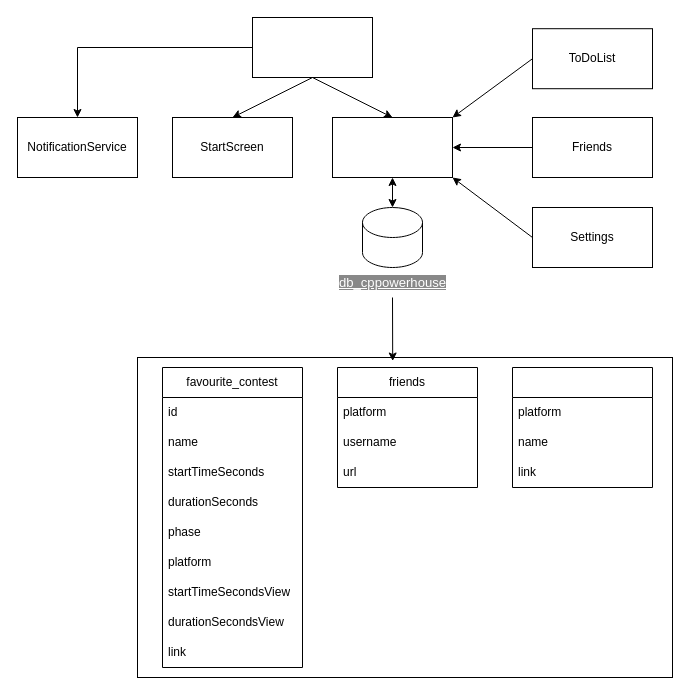
This 690x695 diagram has some shape labels left out. The shapes that lost their labels are listed below. From the top down, each one's box as (x1, y1, x2, y2) in pixels, then its label:
(252, 16, 372, 78): Core
(332, 116, 452, 178): MainWindow
(512, 366, 652, 488): problemset
